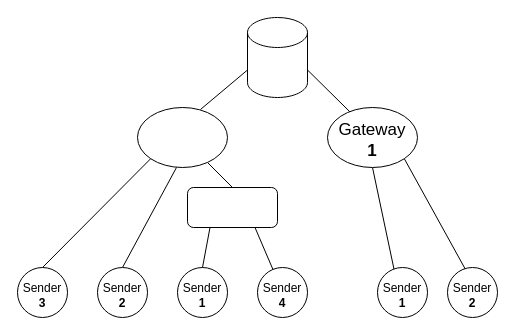
Image size: 515x335. Some labels were removed from this diagram. Here are the shapes that lost their labels. From the top down, the centre of each, then its label:
point 277,57: Web server
point 182,137: Gateway 0
point 232,207: Repeater
